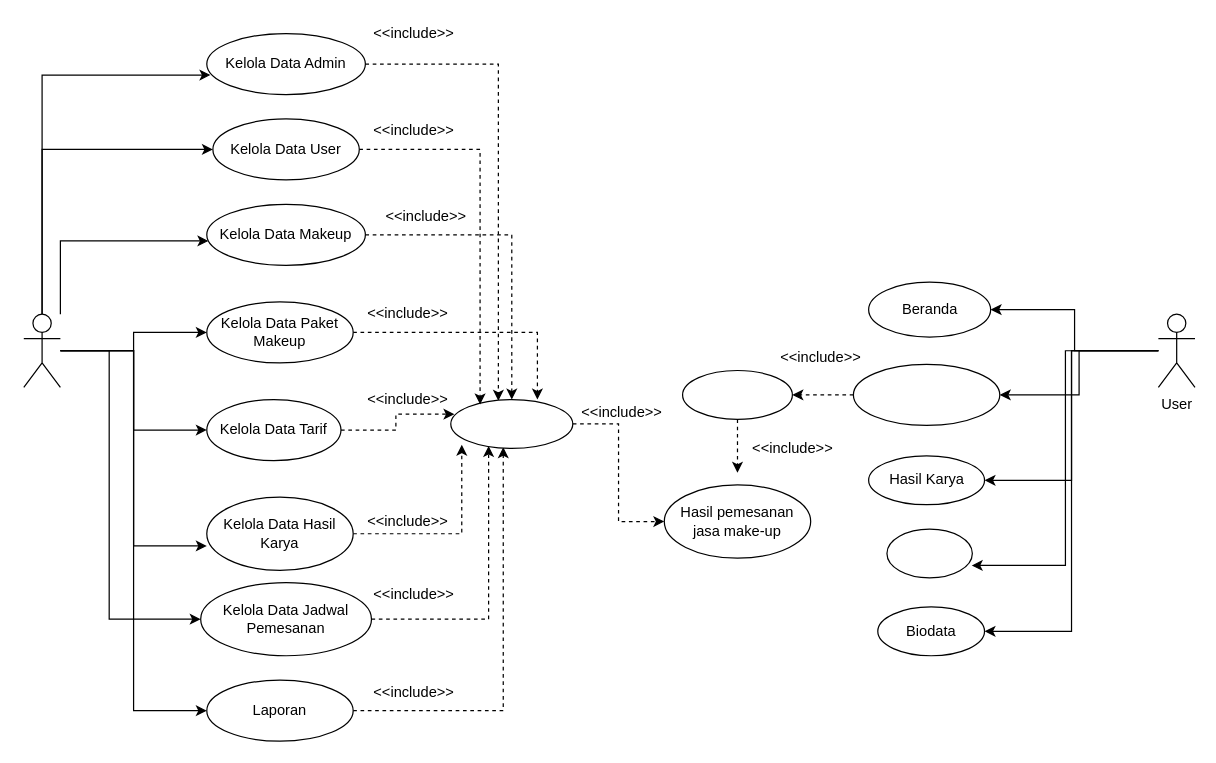
The diagram is 1216 pixels wide and 763 high, and some of its shapes have lost their labels. Each missing label, with the centre of its shape:
Admin: (41,350)
Daftar: (929,553)
Login: (511,423)
Login User: (736,394)
Pemesanan Jasa Make-up: (926,394)
